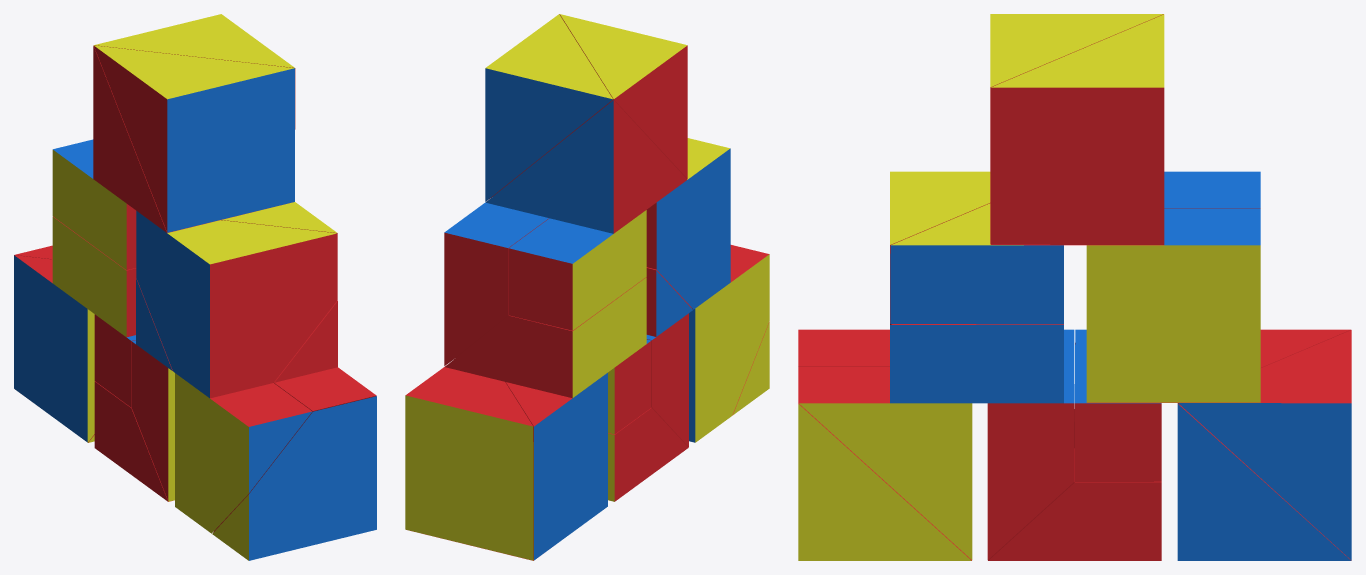
File: Blöcke_kaputt.glb
3 renders of one model, left to right at view 1: azimuth 30°, elevation 25°; view 2: azimuth 150°, elevation 25°; view 3: azimuth 270°, elevation 25°, orthographic. The views are drawn at different scales.
Parts seen in each view (by area): view 1: Block.005_cell.002, Block.006_cell, Block.001_cell.001, Block.001_cell.002, Block.003_cell.001, Block.004_cell.001, Block.004_cell.002, Block.006_cell.001, Block.006_cell.002, Block.002_cell, Block.002_cell.001, Block.005_cell (+3 smaller); view 2: Block.003_cell.002, Block.006_cell.001, Block.006_cell.002, Block.004_cell.001, Block.004_cell.002, Block.003_cell.001, Block.001_cell.002, Block.006_cell, Block.005_cell.002, Block.004_cell, Block.002_cell.001, Block.002_cell (+4 smaller); view 3: Block.006_cell.002, Block.004_cell, Block.003_cell.002, Block.001_cell, Block.005_cell.001, Block.003_cell, Block.001_cell.001, Block.005_cell, Block.002_cell, Block.002_cell.001, Block.002_cell.002, Block.006_cell (+4 smaller).
Part boxes in pixels (left/top/right/bottom): Block.005_cell.002: left=136, top=211, right=337, bottom=398; Block.006_cell: left=93, top=45, right=294, bottom=232; Block.001_cell.001: left=212, top=396, right=376, bottom=560; Block.001_cell.002: left=175, top=373, right=312, bottom=533; Block.003_cell.001: left=14, top=255, right=94, bottom=442; Block.004_cell.001: left=52, top=139, right=136, bottom=269; Block.004_cell.002: left=52, top=216, right=136, bottom=337; Block.006_cell.001: left=93, top=46, right=280, bottom=232; Block.006_cell.002: left=94, top=14, right=295, bottom=129; Block.002_cell: left=131, top=340, right=174, bottom=501; Block.002_cell.001: left=94, top=381, right=172, bottom=501; Block.005_cell: left=136, top=278, right=337, bottom=382; Block.003_cell.002: left=405, top=365, right=533, bottom=560; Block.006_cell.001: left=486, top=100, right=687, bottom=233; Block.006_cell.002: left=485, top=14, right=612, bottom=201; Block.004_cell.001: left=508, top=210, right=646, bottom=330; Block.004_cell.002: left=445, top=277, right=646, bottom=398; Block.003_cell.001: left=505, top=372, right=607, bottom=560; Block.001_cell.002: left=689, top=245, right=769, bottom=442; Block.006_cell: left=559, top=14, right=687, bottom=178; Block.005_cell.002: left=656, top=138, right=730, bottom=309; Block.004_cell: left=444, top=202, right=548, bottom=365; Block.002_cell.001: left=608, top=408, right=688, bottom=501; Block.002_cell: left=646, top=313, right=688, bottom=447; Block.006_cell.002: left=990, top=14, right=1164, bottom=244; Block.004_cell: left=1086, top=208, right=1260, bottom=402; Block.003_cell.002: left=1178, top=330, right=1351, bottom=560; Block.001_cell: left=798, top=366, right=972, bottom=559; Block.005_cell.001: left=890, top=203, right=1063, bottom=323; Block.003_cell: left=1177, top=404, right=1351, bottom=560; Block.001_cell.001: left=798, top=367, right=971, bottom=560; Block.005_cell: left=890, top=324, right=1063, bottom=403; Block.002_cell: left=987, top=329, right=1074, bottom=559; Block.002_cell.001: left=988, top=409, right=1161, bottom=560; Block.002_cell.002: left=1075, top=329, right=1161, bottom=481; Block.006_cell: left=990, top=14, right=1163, bottom=244.
Size of the model in its own units: 0.2308 by 0.6925 by 0.7338.
